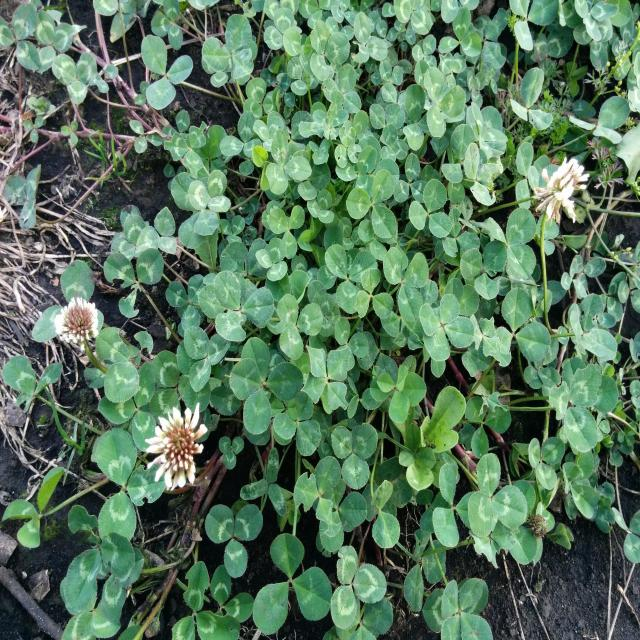Four Leaf Clover: (418, 293, 475, 360)
